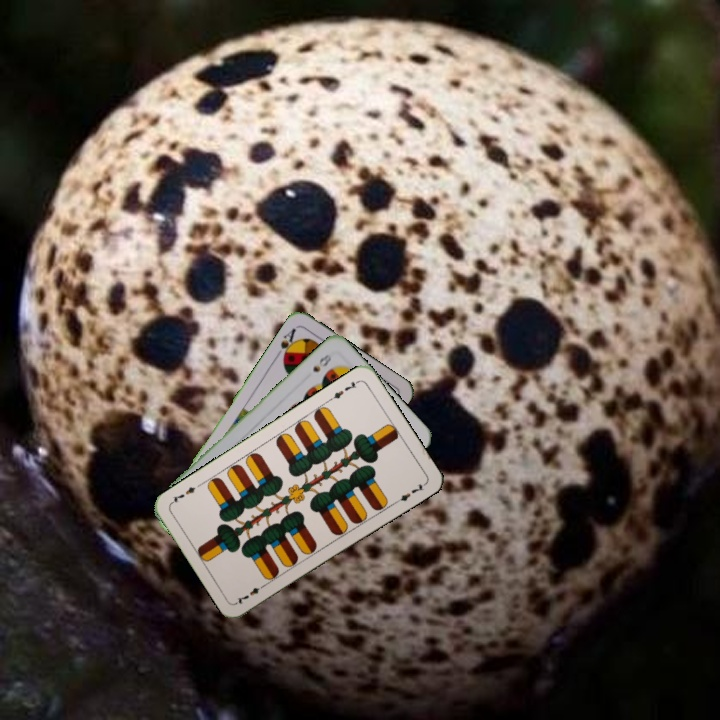E7: (325, 376, 362, 403), (233, 579, 269, 606)
S8: (309, 350, 334, 375)
SA: (272, 324, 300, 363)
